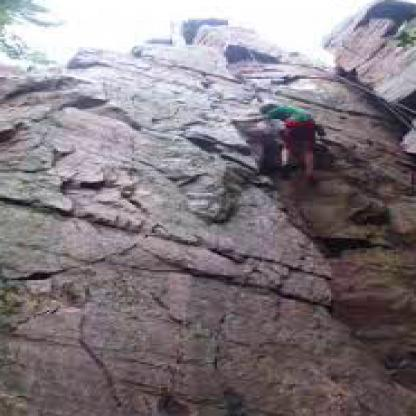Metamorphic_Quartize: (6, 72, 414, 414)
